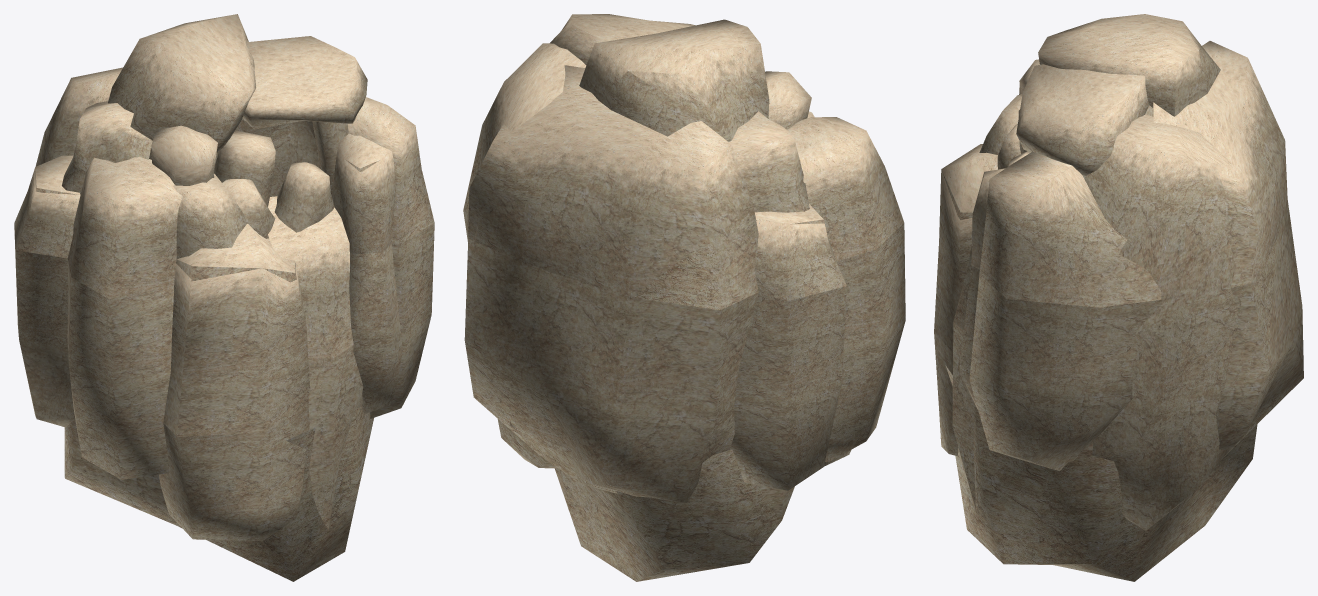
The model's file is poi_all_lair_rancor_light_large_l1.fbx.
The picture shows the model from 3 angles, left to right: view 1: azimuth 30°, elevation 25°; view 2: azimuth 150°, elevation 25°; view 3: azimuth 270°, elevation 25°; orthographic projection. The views are drawn at different scales.
Visible parts, largest first — view 1: mesh_node; view 2: mesh_node; view 3: mesh_node.
Part boxes in pixels (left/top/right/bottom): mesh_node: left=14, top=14, right=434, bottom=581; mesh_node: left=463, top=14, right=905, bottom=581; mesh_node: left=934, top=14, right=1303, bottom=581.
Size of the model in its own units: 36.33 by 48.37 by 31.85.
